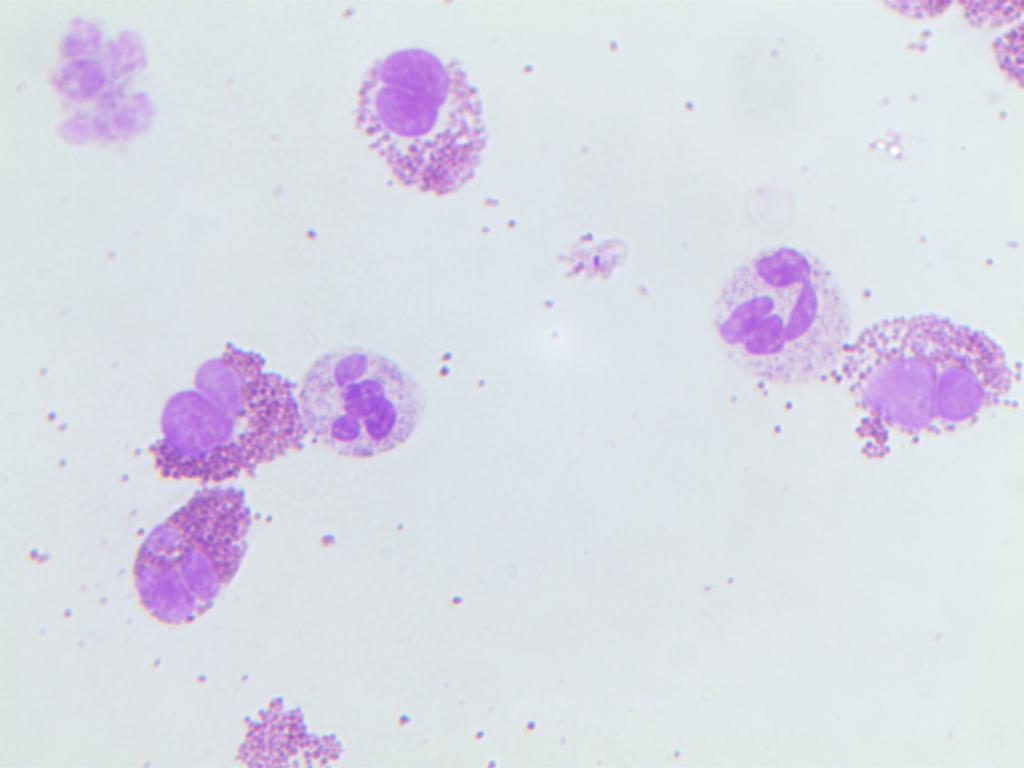artifact: (142, 340, 308, 484), (46, 13, 162, 149), (228, 692, 352, 768)
eosinophil: (850, 325, 1024, 470), (350, 40, 494, 199), (110, 482, 262, 626)
neutrophil: (709, 238, 853, 397), (298, 340, 431, 479)
